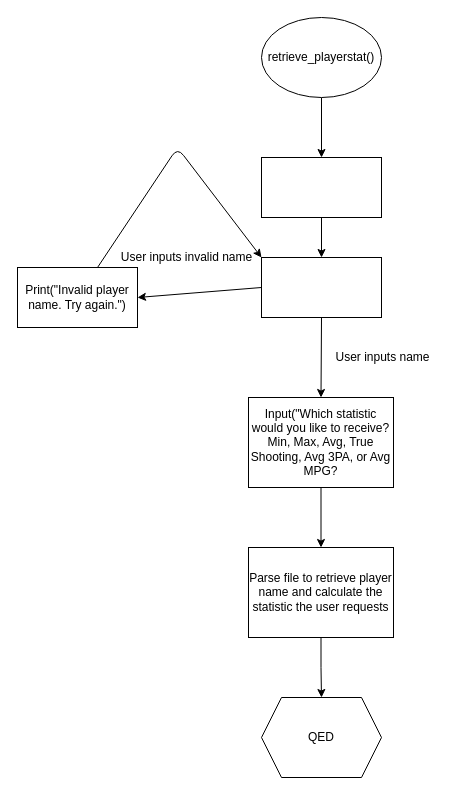
The diagram is 455 pixels wide and 795 high, and some of its shapes have lost their labels. The centre of each missing label's shape, as x and y in pixels:
Input("Welcome to Player Statistics! Please input Player Name (Last, First)"): pixel 321 287
Parse 2017-2018 CSV file: pixel 321 187
